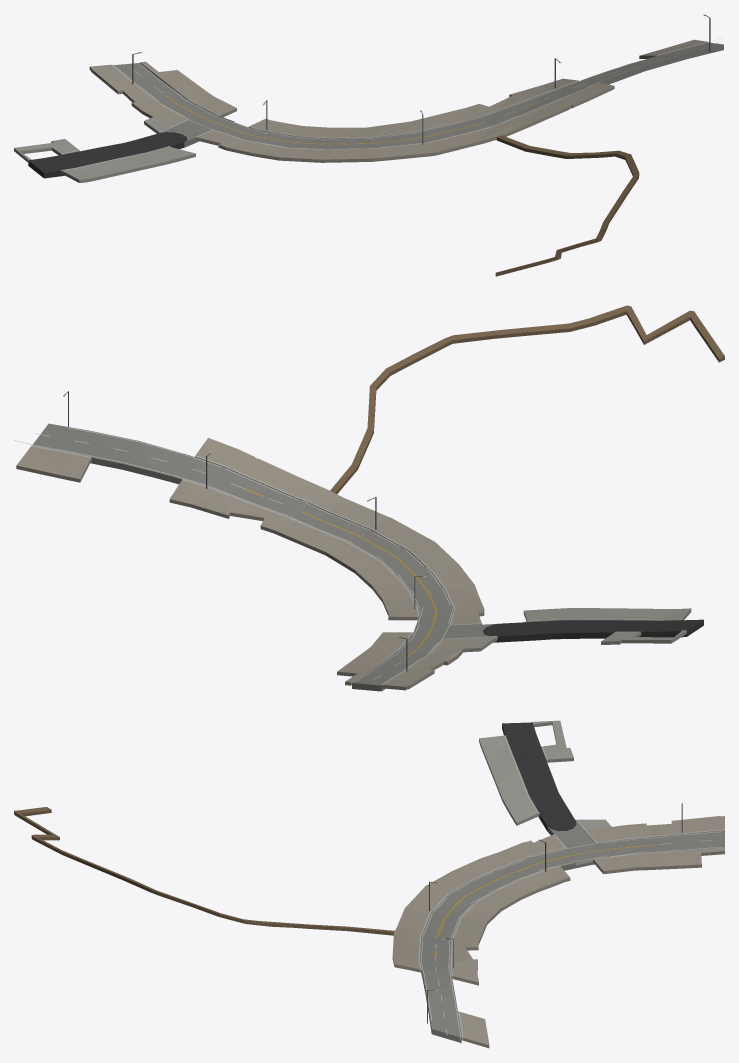
The model's file is 18-218890-118914.420cdab4.glb.
The picture shows the model from 3 angles, top to bottom: view 1: azimuth 30°, elevation 25°; view 2: azimuth 150°, elevation 25°; view 3: azimuth 270°, elevation 25°; orthographic projection. The views are drawn at different scales.
Size of the model in its own units: 150 by 16.79 by 145.
